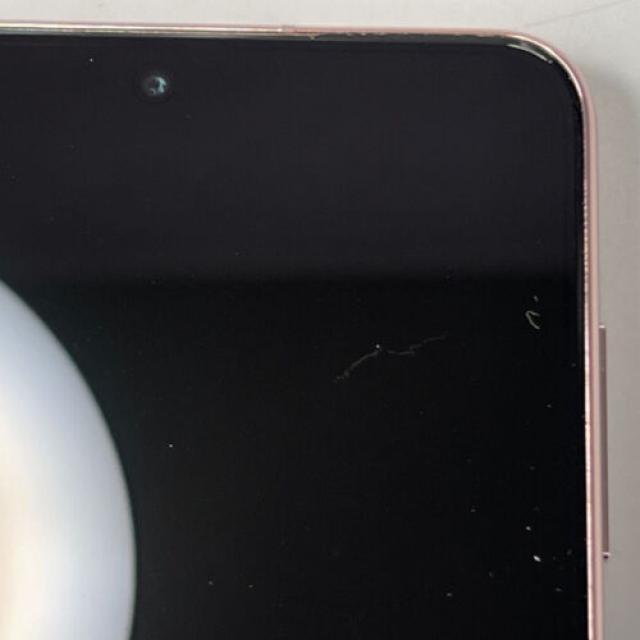Scratches: (305, 333, 459, 389), (496, 283, 557, 350)
